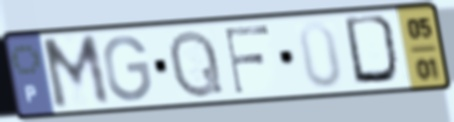0: (296, 19, 344, 91)
D: (341, 12, 406, 88)
F: (222, 23, 273, 97)
G: (101, 33, 155, 105)
M: (38, 31, 114, 114)
Q: (166, 27, 227, 101)
